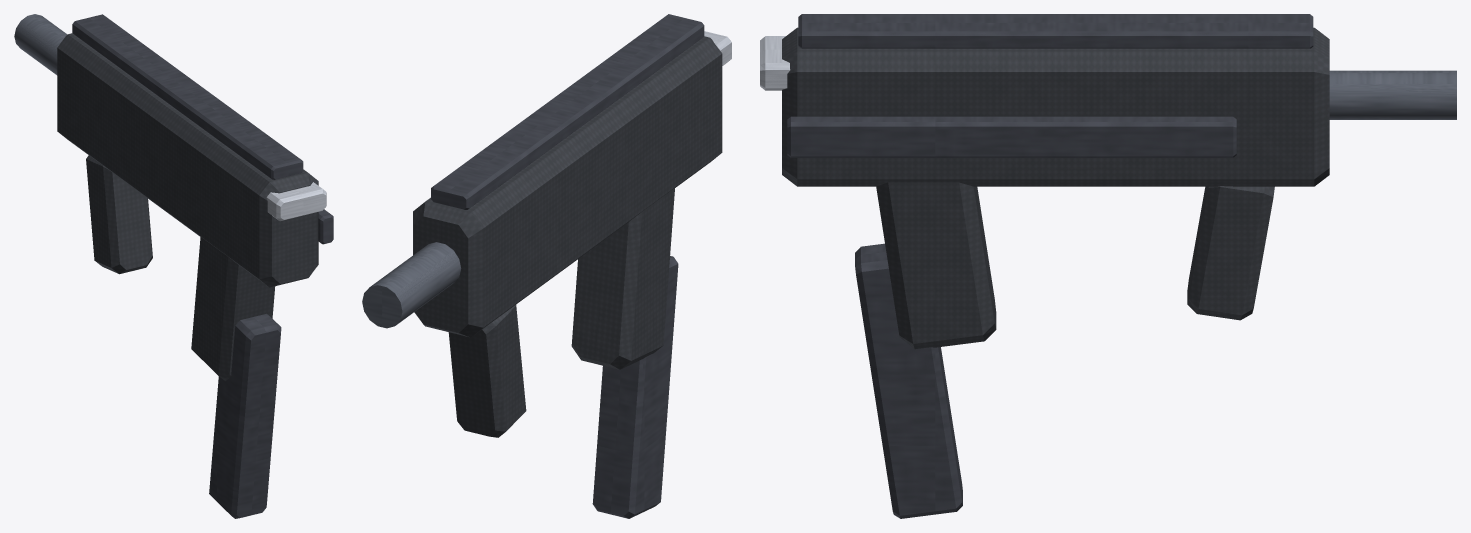
File: weapon_mp9.glb
3 views of the same model, side by side, from view 1: azimuth 30°, elevation 25°; view 2: azimuth 150°, elevation 25°; view 3: azimuth 270°, elevation 25° (orthographic). The views are drawn at different scales.
Visible parts, largest first — view 1: WeaponRoot, Magazine, Bolt; view 2: WeaponRoot, Magazine, Bolt; view 3: WeaponRoot, Magazine, Bolt.
Boxes of the visible parts, x1,y1,x2,y2 form: WeaponRoot: (14,14,333,381); Magazine: (209,313,281,518); Bolt: (266,182,326,220); WeaponRoot: (362,14,722,437); Magazine: (592,256,678,518); Bolt: (704,31,731,65); WeaponRoot: (782,14,1456,349); Magazine: (855,243,962,518); Bolt: (760,36,790,90).
Size of the model in its own units: 0.0485 by 0.2457 by 0.318.
Materials: 4 (4 with a texture image).
